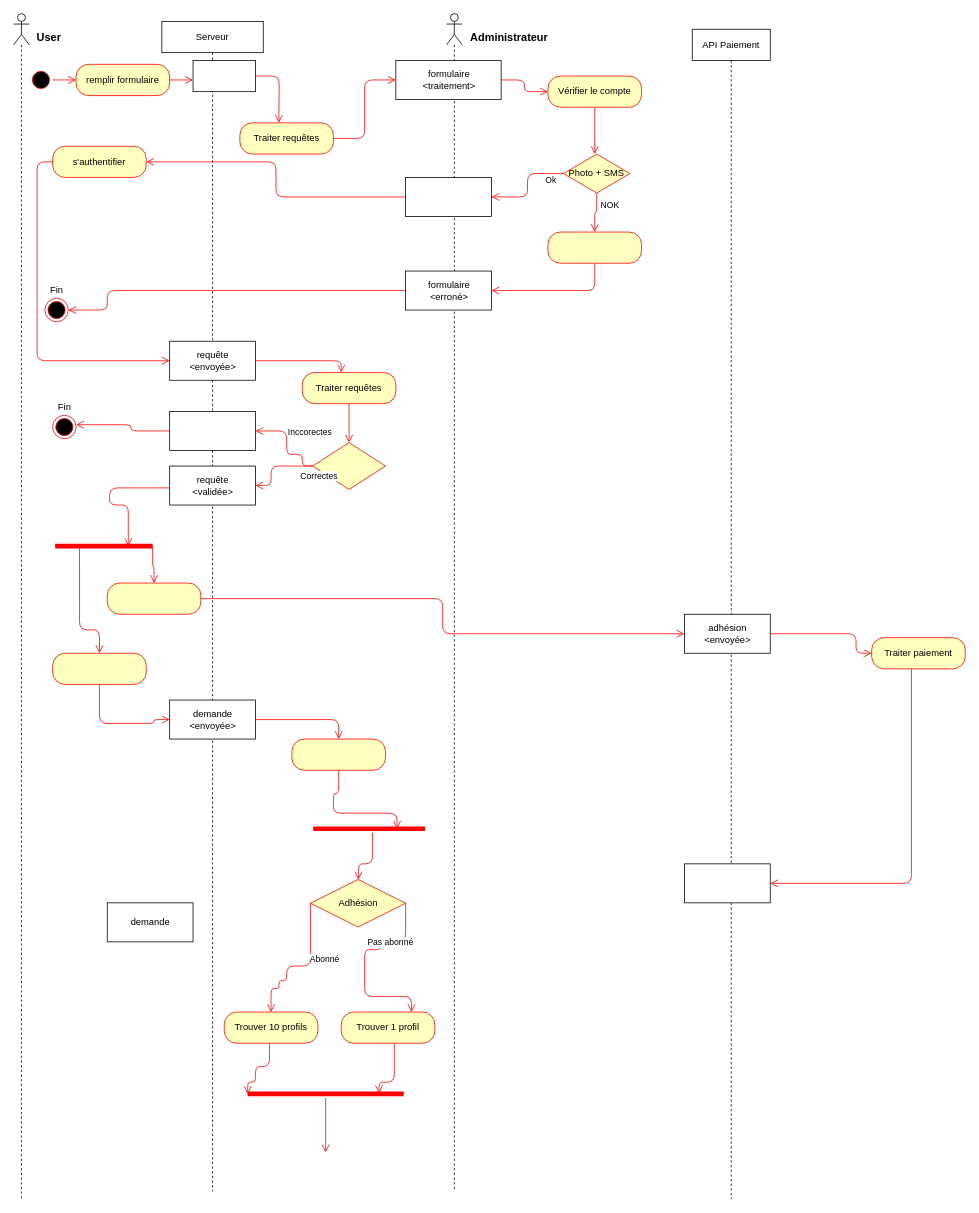
This 979x1213 diagram has some shape labels left out. The centre of each missing label's shape, as x and y in pixels:
adhésion <validée>: point 727,883
Chercher un profil correspondant: point 338,754
formulaire <envoyé>: point 223,76
formulaire <validé>: point 448,196
Informations: point 348,465
Refuser l'inscription: point 594,247
requête <erronée>: point 212,430
Soumettre un abonnement: point 153,598
Voir des profils: point 99,668
